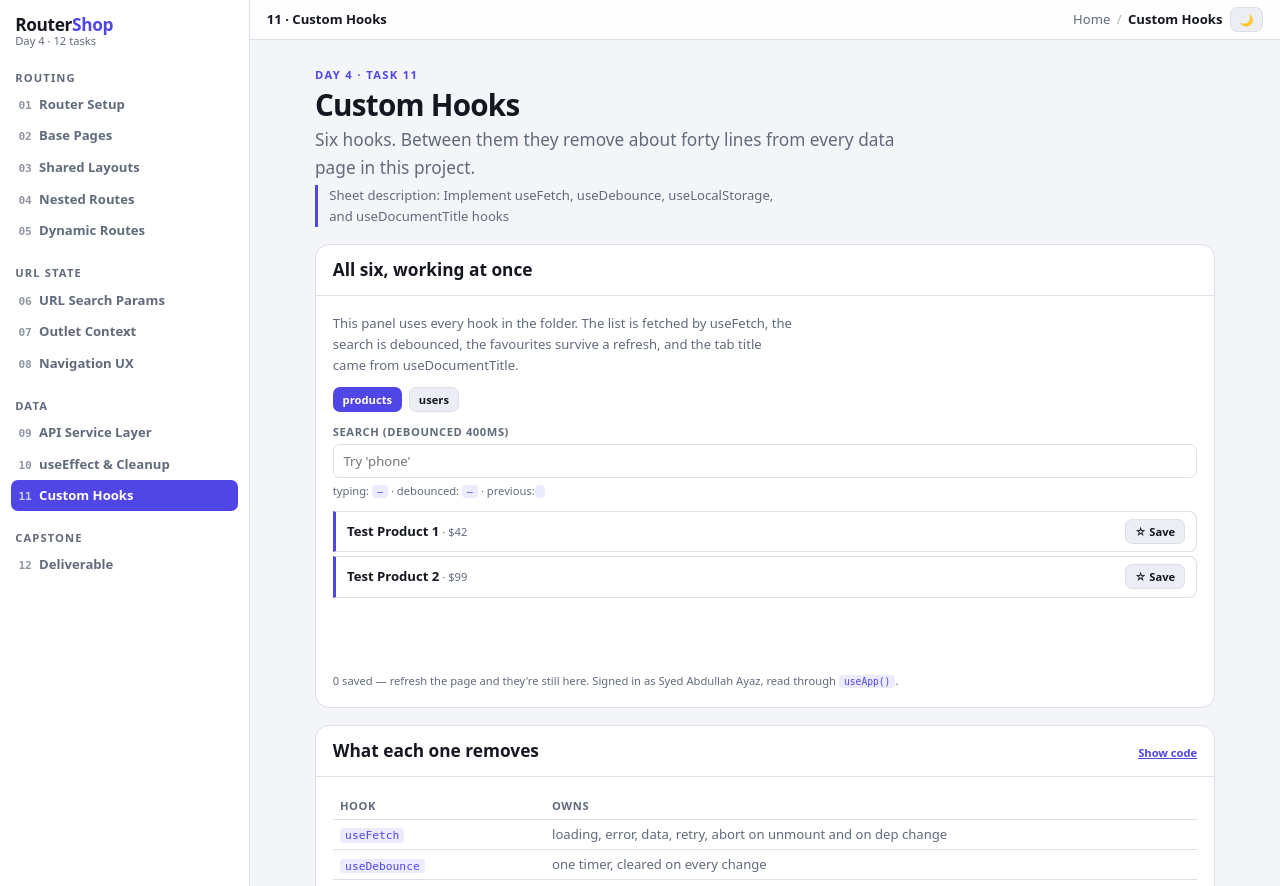
task 11 — custom hooks › useFetch refetches when a dependency changes
Expected: the text "Test Product 1" is shown, [347,522,439,540]
Step 1. Click the button "users" → x=434, y=400, box [409,387,459,412]
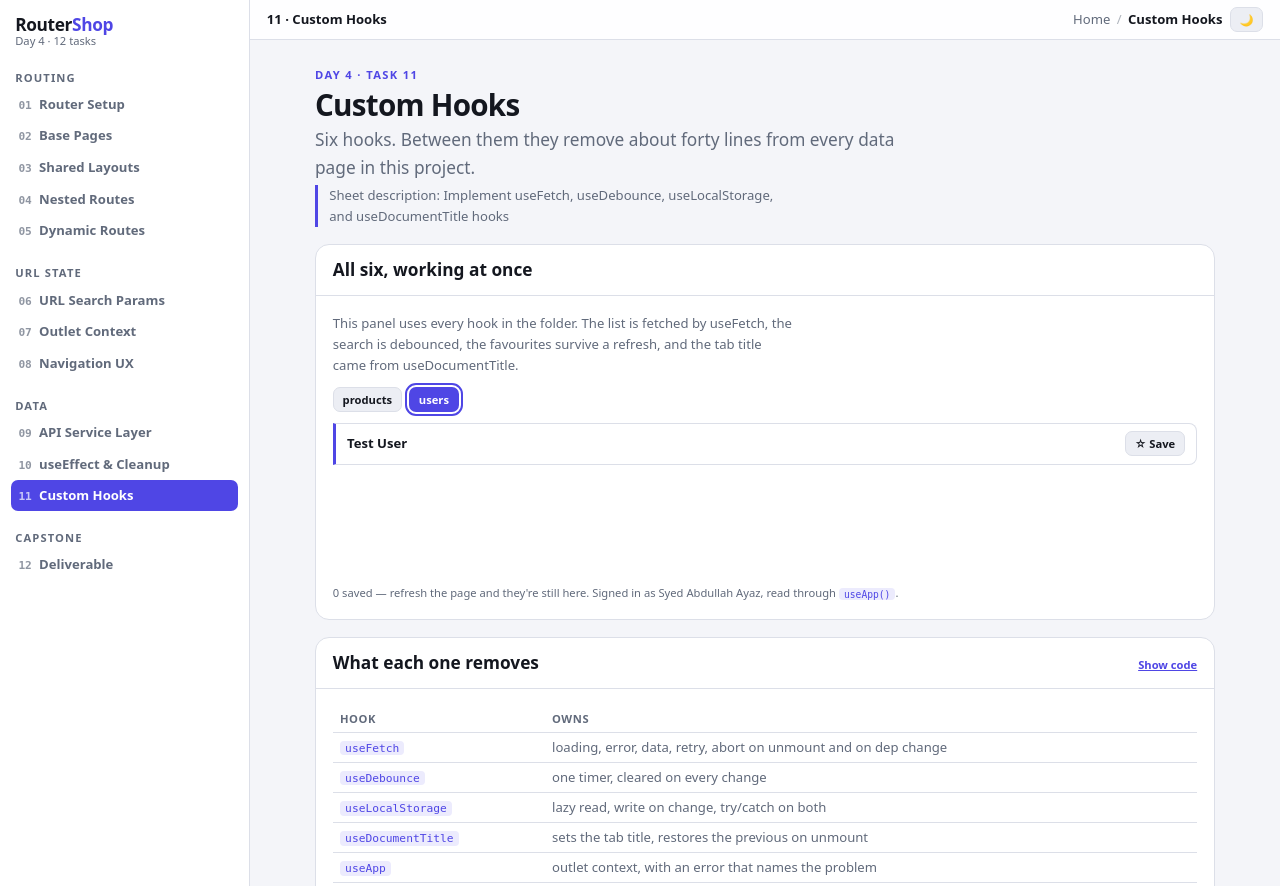
Expected: the text "Test User" is shown, [347,434,407,452]
